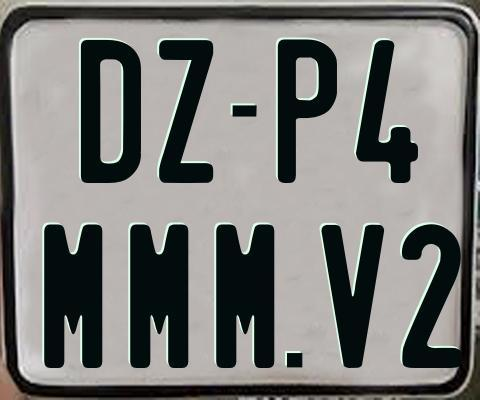2: (400, 222, 459, 378)
4: (354, 38, 418, 181)
D: (79, 38, 140, 187)
M: (44, 224, 107, 373), (129, 222, 189, 366), (215, 221, 274, 365)
P: (275, 39, 338, 183)
V: (321, 225, 387, 372)
Z: (156, 38, 211, 183)
